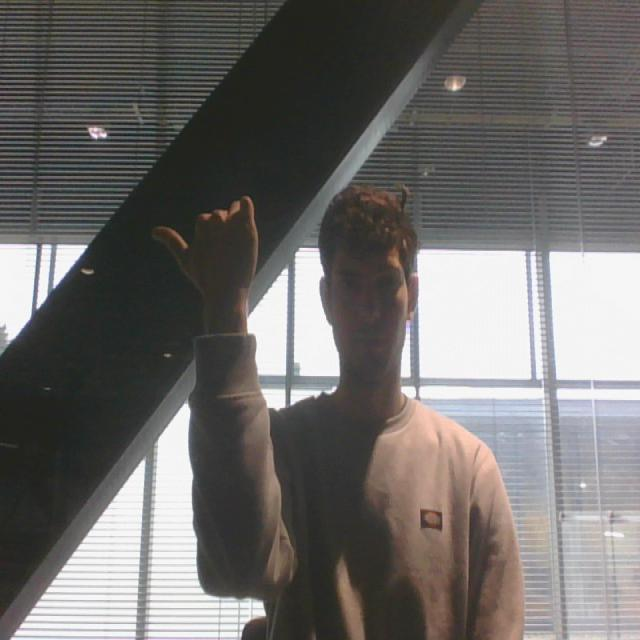left: (143, 189, 271, 306)
